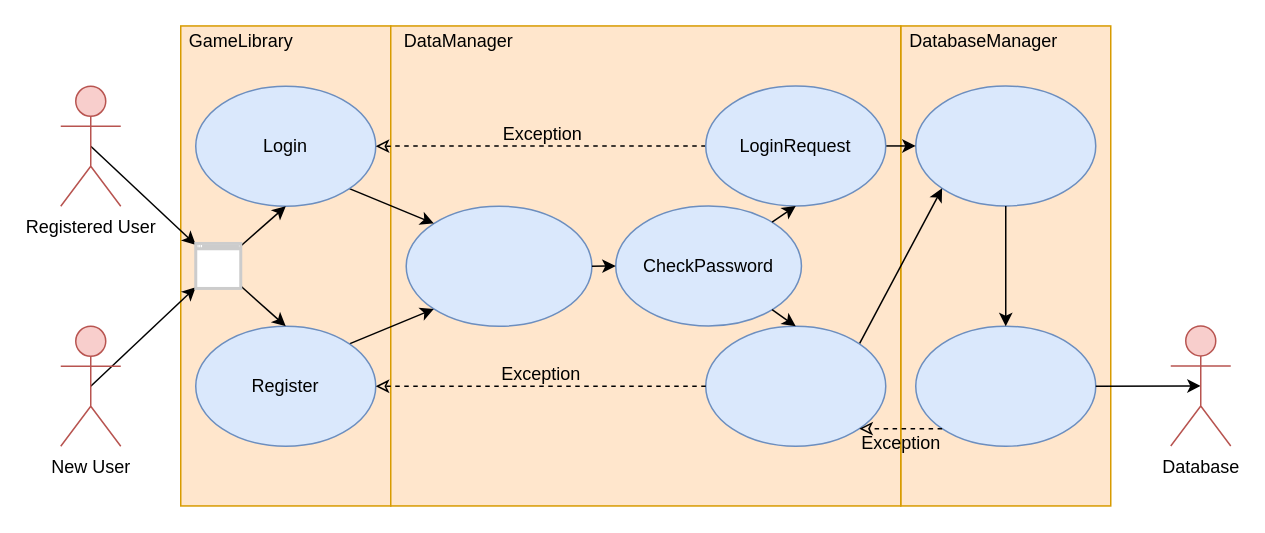
This 1265x533 diagram has some shape labels left out. The box of each missing label's shape, as (x1, y1, x2, y2) in pixels:
CheckMail: (405, 205, 592, 326)
DbConnector: (914, 325, 1096, 446)
ExecuteQuery: (914, 84, 1096, 206)
RegisterRequest: (704, 325, 886, 446)
